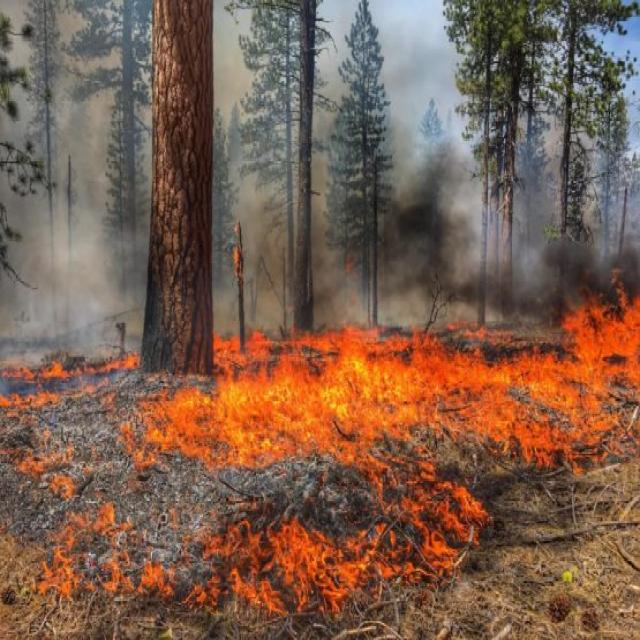Fire: (158, 332, 566, 463), (176, 520, 431, 617), (487, 314, 640, 471), (22, 442, 167, 606), (346, 455, 491, 606)
